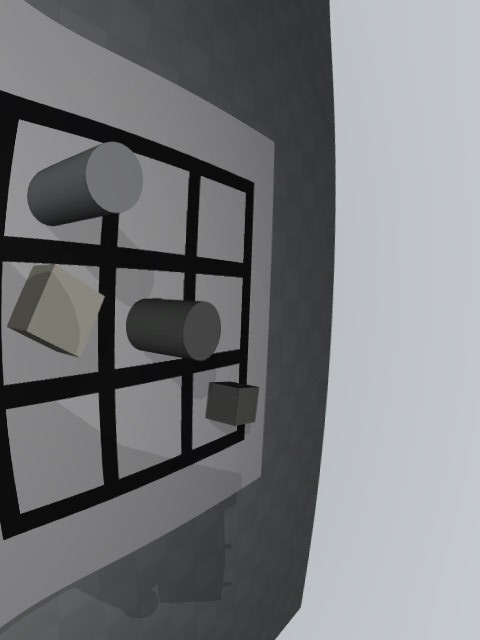can: (27, 141, 143, 226)
cube: (206, 382, 259, 426)
cylinder: (126, 299, 221, 361)
foam: (7, 264, 105, 358)
